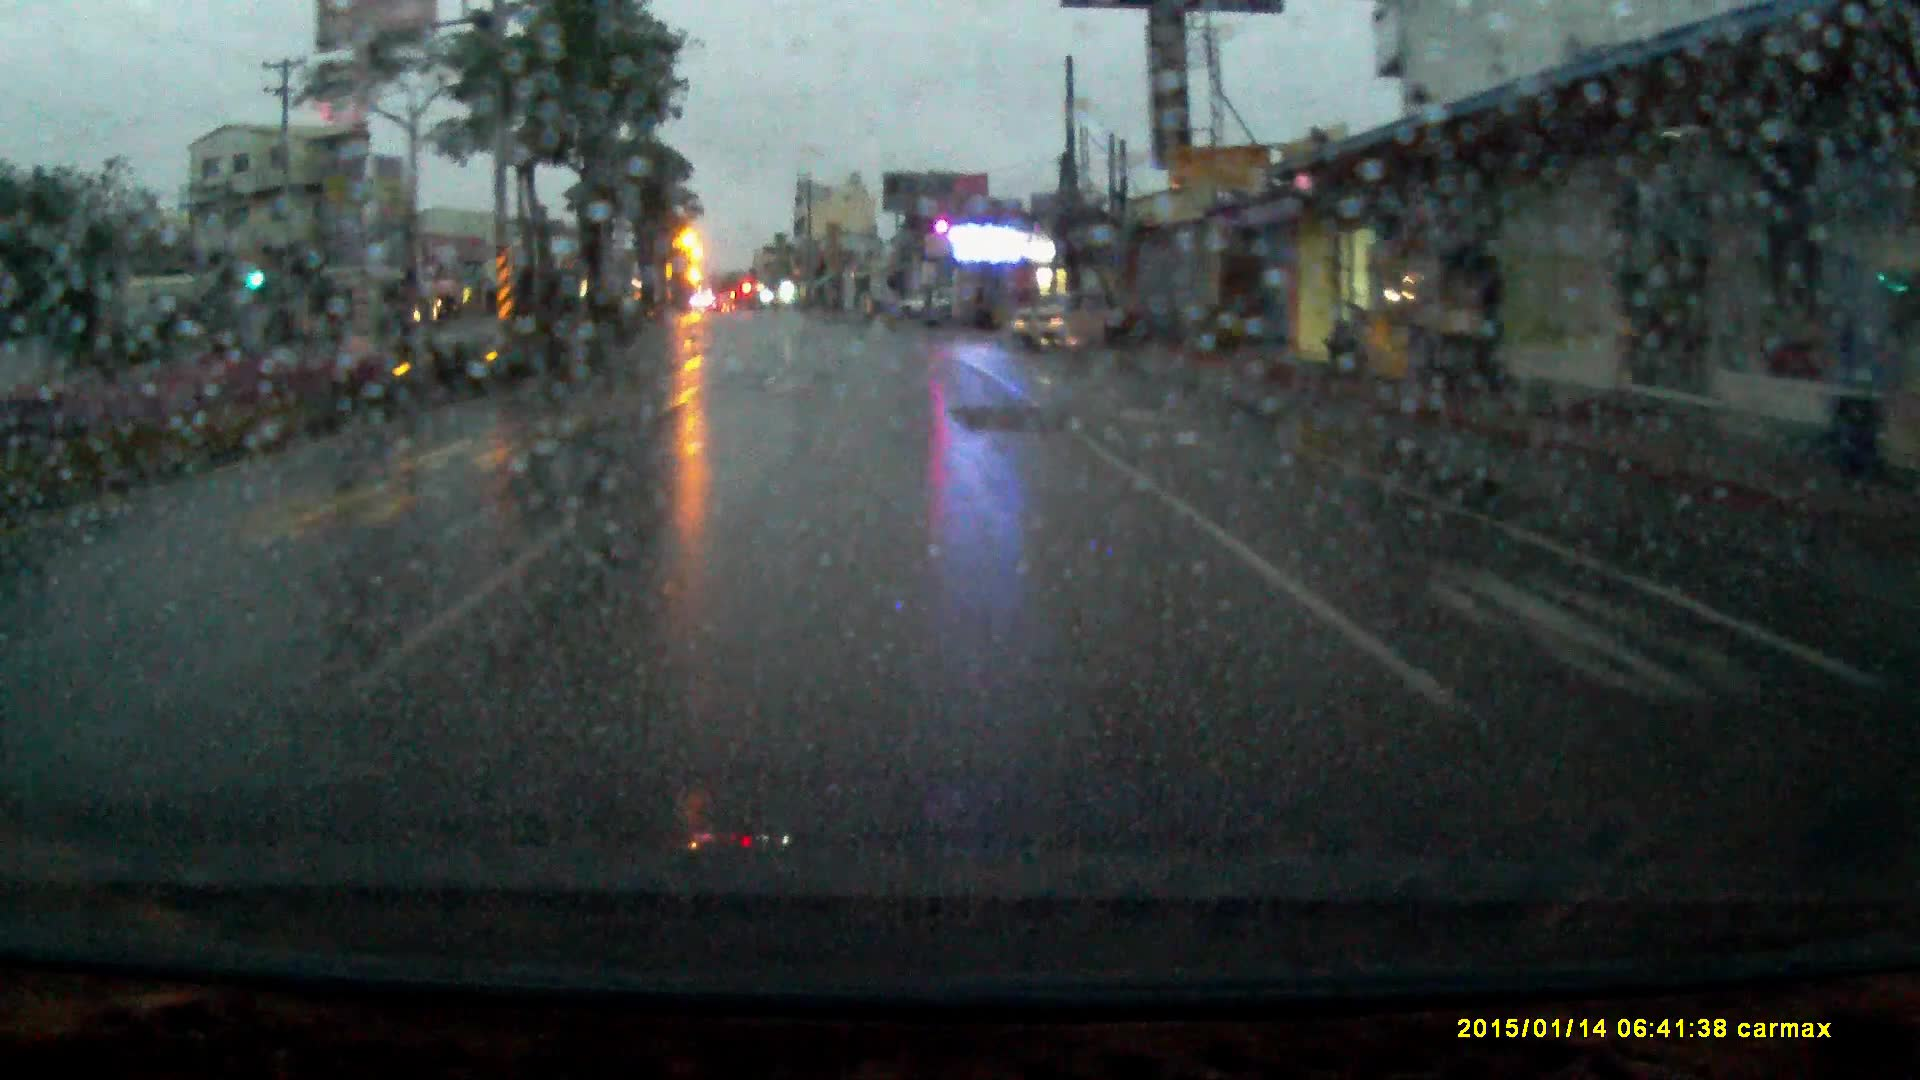vehicle: (1010, 289, 1112, 353), (899, 289, 953, 316)
